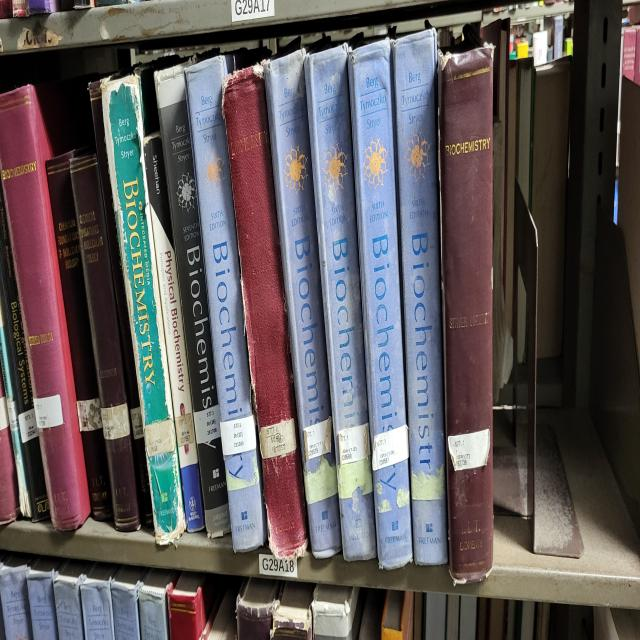Book: (222, 65, 308, 560), (0, 84, 90, 530), (185, 57, 266, 552), (102, 76, 186, 544), (264, 51, 341, 557), (304, 46, 376, 560), (155, 68, 230, 538), (349, 41, 412, 568), (438, 43, 494, 584), (392, 30, 448, 565), (89, 81, 152, 525), (70, 154, 140, 530), (46, 152, 112, 519), (144, 133, 205, 530), (0, 184, 50, 522)
Label: (448, 427, 490, 471), (372, 425, 409, 471), (220, 414, 256, 457), (259, 419, 296, 457), (338, 422, 370, 465), (411, 463, 445, 501), (144, 419, 175, 457), (304, 417, 331, 460), (101, 403, 130, 441), (194, 406, 221, 444), (34, 395, 62, 430), (76, 398, 102, 433), (19, 409, 38, 444), (175, 414, 195, 446), (6, 398, 19, 433), (130, 406, 144, 438)
